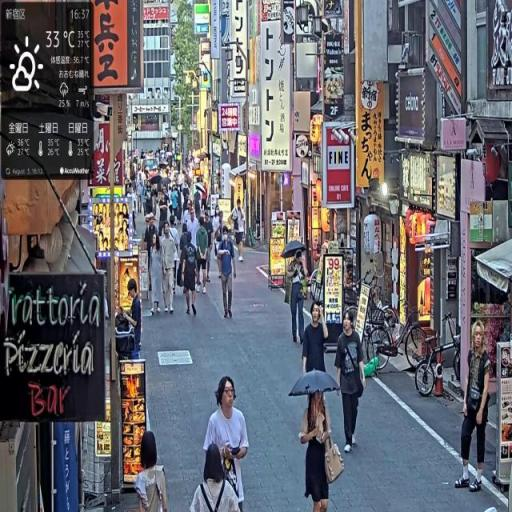person: (455, 320, 493, 495), (204, 377, 251, 512), (301, 388, 343, 512), (336, 311, 368, 456), (188, 444, 241, 512), (302, 301, 329, 418), (134, 428, 171, 512), (286, 251, 310, 348), (217, 225, 239, 322), (181, 223, 201, 319), (161, 226, 178, 316), (149, 234, 166, 318), (198, 214, 214, 290), (233, 199, 247, 266)
